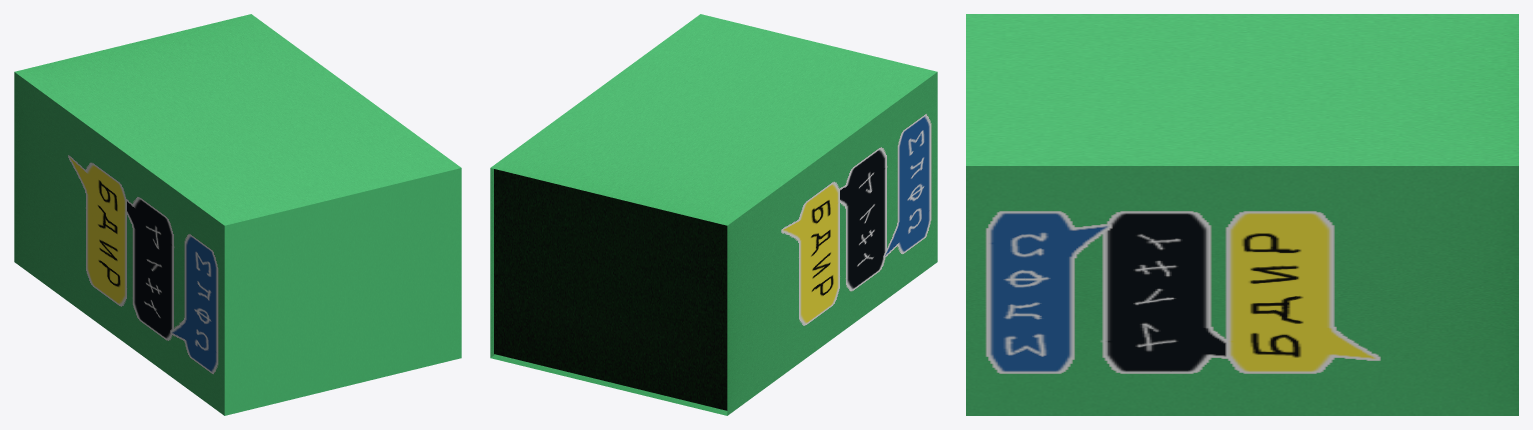
File: bin.obj
3 views of the same model, side by side, from view 1: azimuth 30°, elevation 25°; view 2: azimuth 150°, elevation 25°; view 3: azimuth 270°, elevation 25° (orthographic). The views are drawn at different scales.
Parts seen in each view (by area): view 1: box_Cube.001; view 2: box_Cube.001; view 3: box_Cube.001.
Part boxes in pixels (bbox=[...]): box_Cube.001: bbox=[14, 14, 461, 415]; box_Cube.001: bbox=[490, 14, 937, 415]; box_Cube.001: bbox=[966, 14, 1518, 415].
Bounding box in the file's own units: 0.6913 × 0.53 × 1.06.
Materials: 1 (1 with a texture image).
